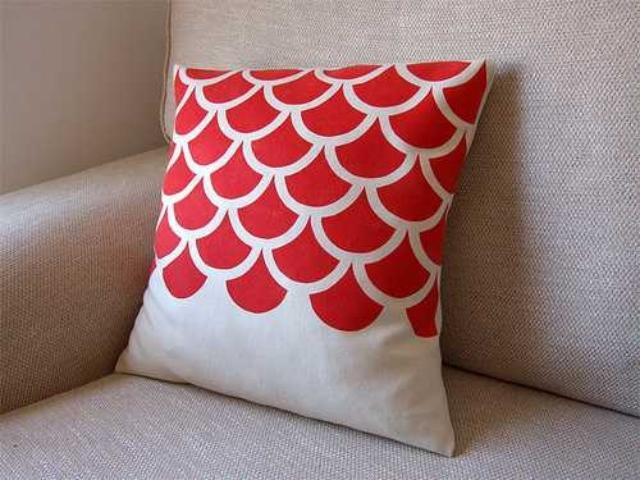pillow: (111, 57, 495, 457)
